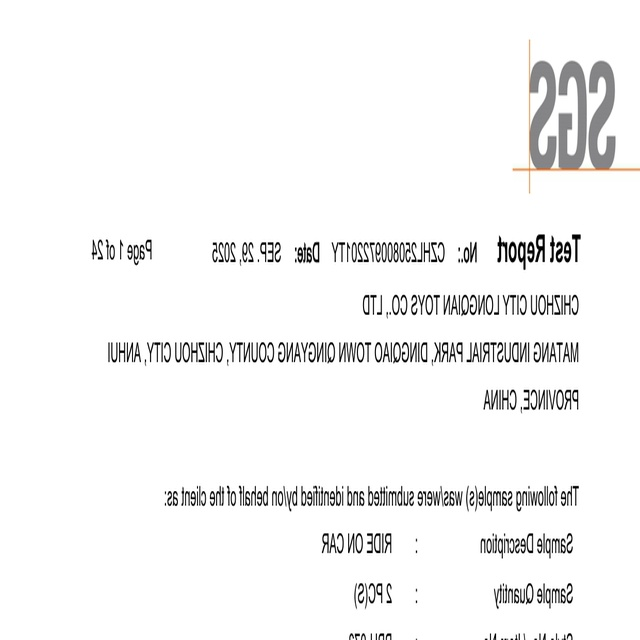sgs: (531, 61, 616, 170)
